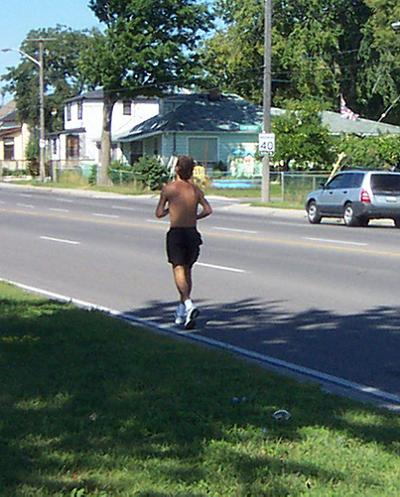person: (156, 157, 213, 330)
